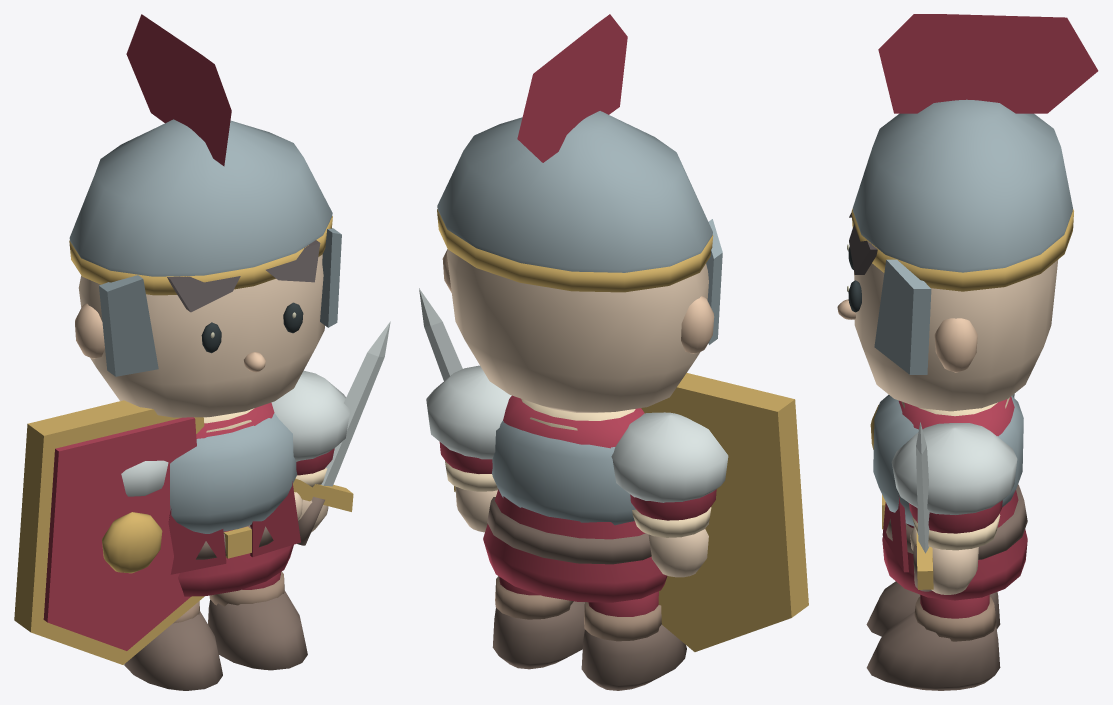
Rendered from guard.glb.
3 views of the same model, side by side, from view 1: azimuth 30°, elevation 25°; view 2: azimuth 150°, elevation 25°; view 3: azimuth 270°, elevation 25° (orthographic). The views are drawn at different scales.
Visible parts, largest first — view 1: Regional helmet, Regional shield face, Soft cheek head, Shield gold rim, Rounded breastplate, Roman horsehair fan, Round leather boot.001, Round leather boot, Roman cheekplate, Big shoulder armour.001, Short folded tunic, Helmet brow band (+13 smaller); view 2: Regional helmet, Soft cheek head, Shield gold rim, Short folded tunic, Rounded breastplate, Roman horsehair fan, Big shoulder armour, Helmet brow band, Big shoulder armour.001, Round leather boot, Round leather boot.001, Broad leather belt (+13 smaller); view 3: Regional helmet, Roman horsehair fan, Soft cheek head, Big shoulder armour.001, Round leather boot.001, Short folded tunic, Roman cheekplate.001, Rounded breastplate, Helmet brow band, Ear.001, Little mitten.001, Boot turn cuff.001 (+9 smaller).
Boxes of the visible parts, x1,y1,x2,y2 form: Regional helmet: (69,119,332,276); Regional shield face: (43,417,196,650); Soft cheek head: (78,254,324,417); Shield gold rim: (14,400,204,664); Rounded breastplate: (170,413,297,533); Roman horsehair fan: (126,14,231,166); Round leather boot.001: (208,590,307,670); Round leather boot: (124,611,222,690); Roman cheekplate: (99,275,158,376); Big shoulder armour.001: (271,370,350,461); Short folded tunic: (178,402,293,596); Helmet brow band: (69,216,332,295); Regional helmet: (437,111,712,272); Soft cheek head: (446,249,708,412); Shield gold rim: (641,373,808,651); Short folded tunic: (483,395,667,602); Rounded breastplate: (492,421,635,525); Roman horsehair fan: (517,14,627,162); Big shoulder armour: (611,412,728,502); Helmet brow band: (437,209,713,292); Big shoulder armour.001: (426,365,511,459); Round leather boot: (581,624,686,690); Round leather boot.001: (492,601,584,669); Broad leather belt: (487,497,651,564); Regional helmet: (853,99,1072,272); Roman horsehair fan: (878,14,1098,113); Soft cheek head: (854,260,1057,411); Big shoulder armour.001: (891,423,1017,514); Round leather boot.001: (866,611,1000,690); Short folded tunic: (882,396,1027,600); Roman cheekplate.001: (874,259,931,374); Rounded breastplate: (873,394,1023,526); Helmet brow band: (851,208,1073,291); Ear.001: (934,318,977,372); Little mitten.001: (931,547,978,594); Boot turn cuff.001: (914,597,996,641).
Bounding box in the file's own units: 1.12 × 1.79 × 0.664.
